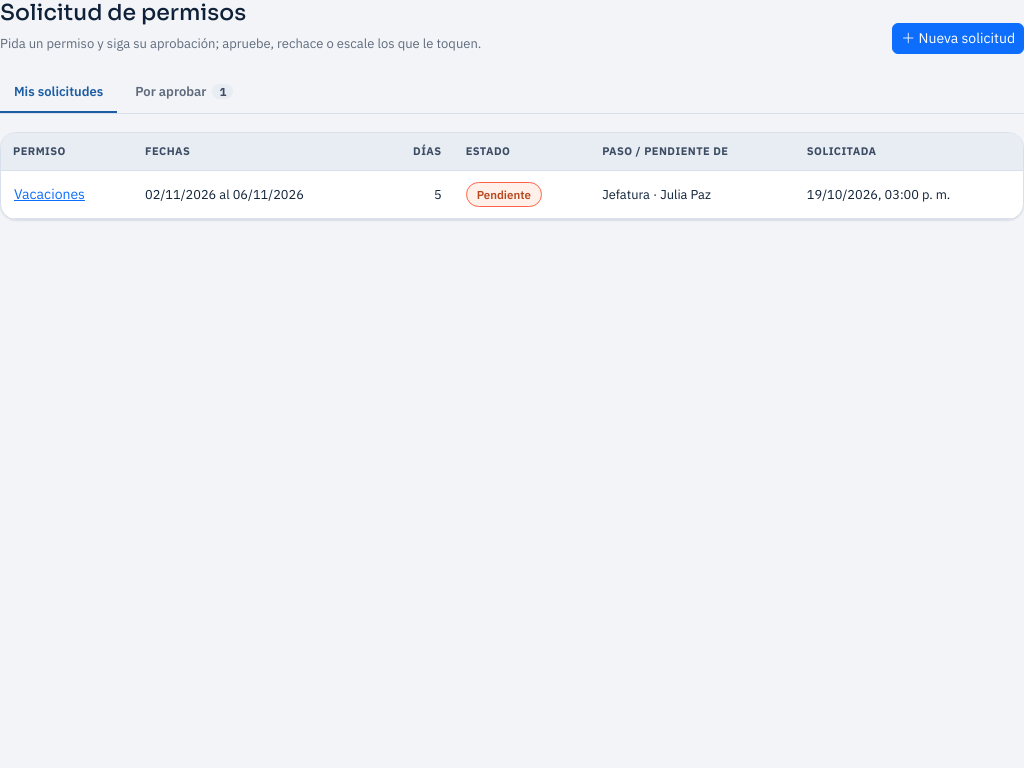
Test: Solicitud de permisos › el calendario y los campos Desde y Hasta muestran lo mismo
Click the button "Nueva solicitud": (958,38) [892,23,1023,54]
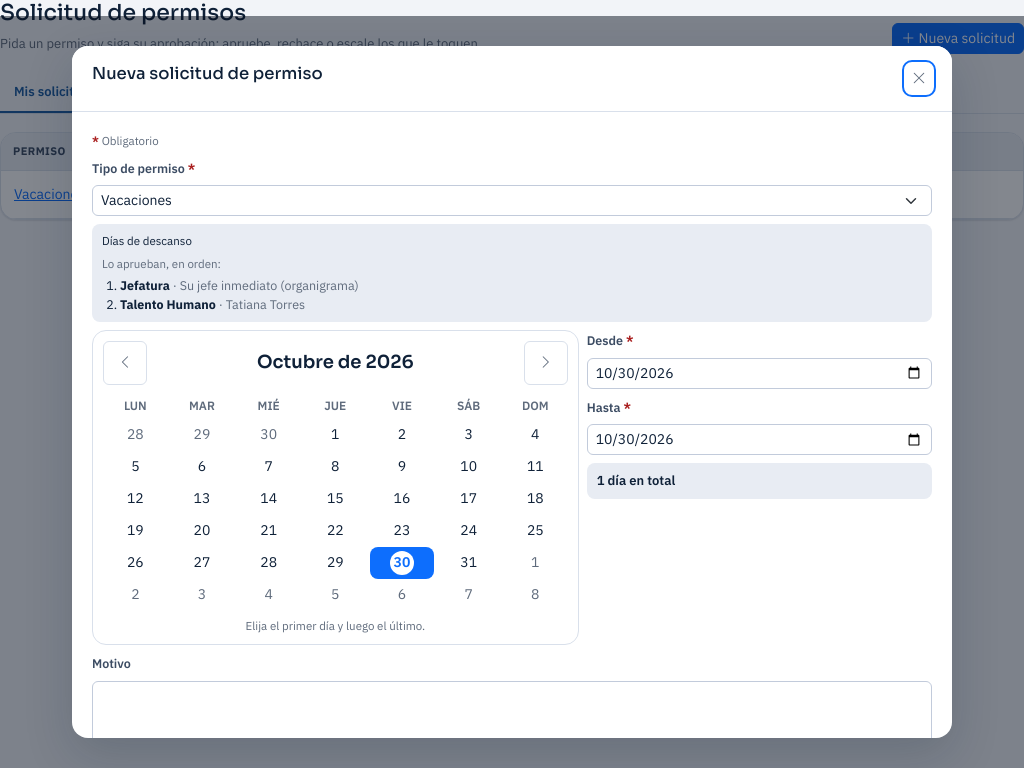
Expected: the text "Jefatura" is shown, [120,277,170,293]
Note: Escribir las fechas las marca en el calendario (y lo lleva a ese mes).
In the date field labelled "Desde *": (759,373) [587,358,932,389], type "2026-12-07"
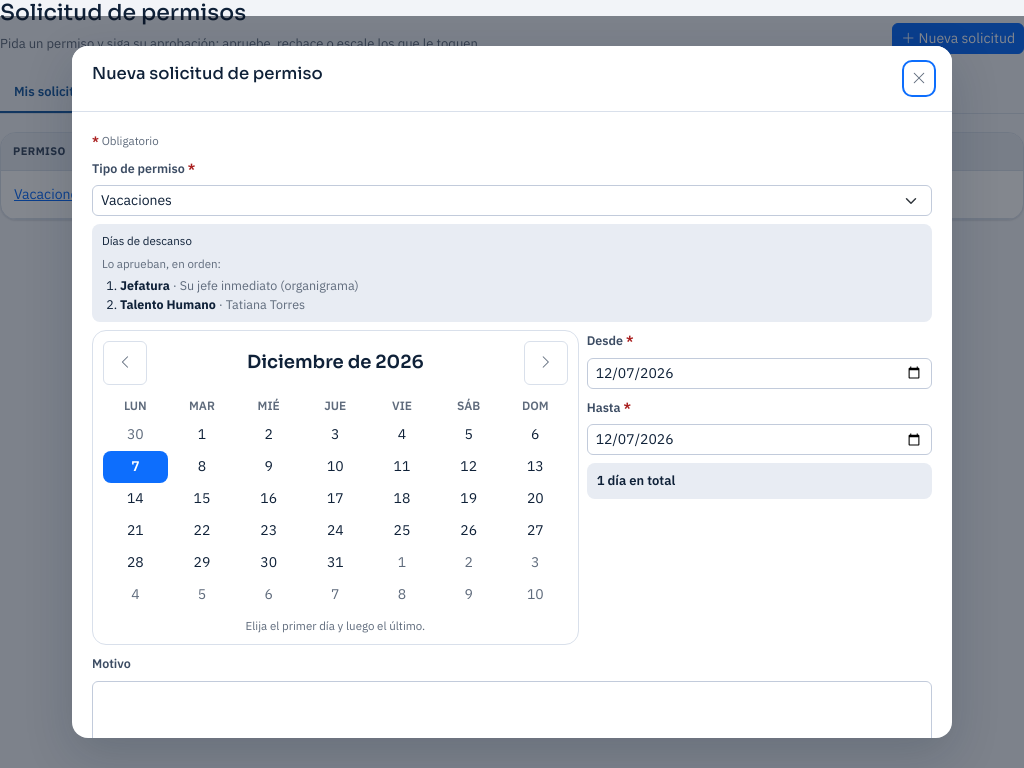
In the date field labelled "Hasta *": (759,440) [587,424,932,455], type "2026-12-09"
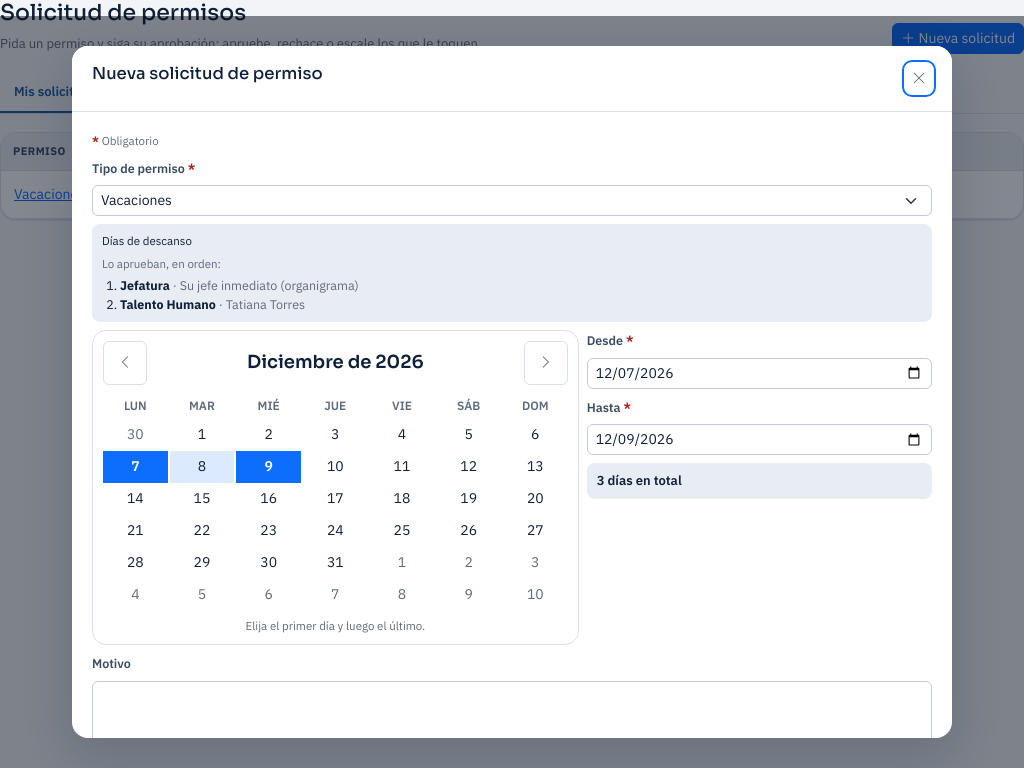
Expected: the text "Diciembre de 2026" is shown, [247,351,424,373]
Expected: the text "3 días en total" is shown, [587,463,932,499]
Click the cell named "14 de diciembre de 2026": (135,499) [103,483,168,515]
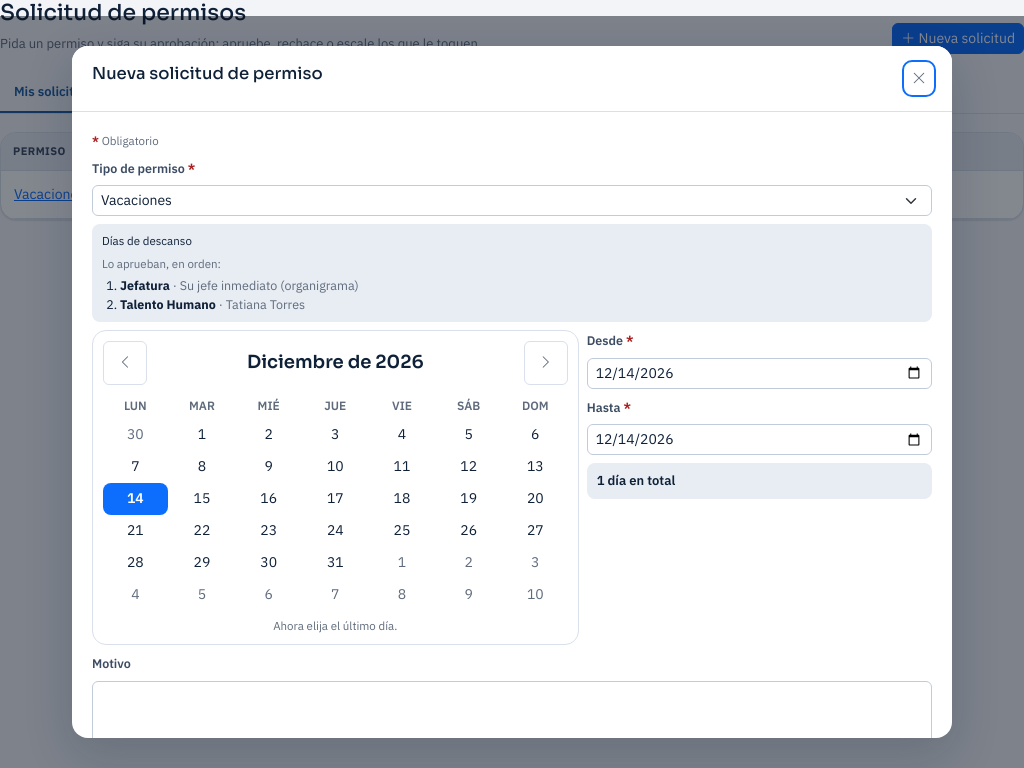
Expected: the date field labelled "Desde *" holds "2026-12-14", [587,358,932,389]
Expected: the date field labelled "Hasta *" holds "2026-12-14", [587,424,932,455]
Click the cell named "18 de diciembre de 2026": (402,499) [370,483,434,515]
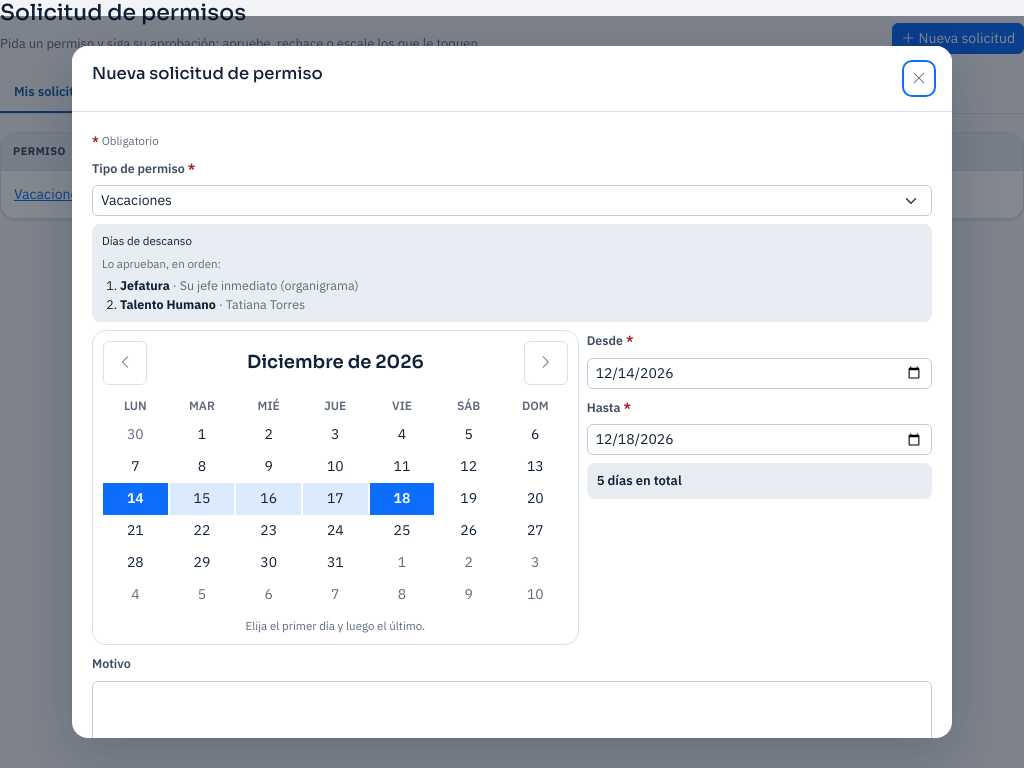
Expected: the date field labelled "Hasta *" holds "2026-12-18", [587,424,932,455]
Expected: the text "5 días en total" is shown, [587,463,932,499]
